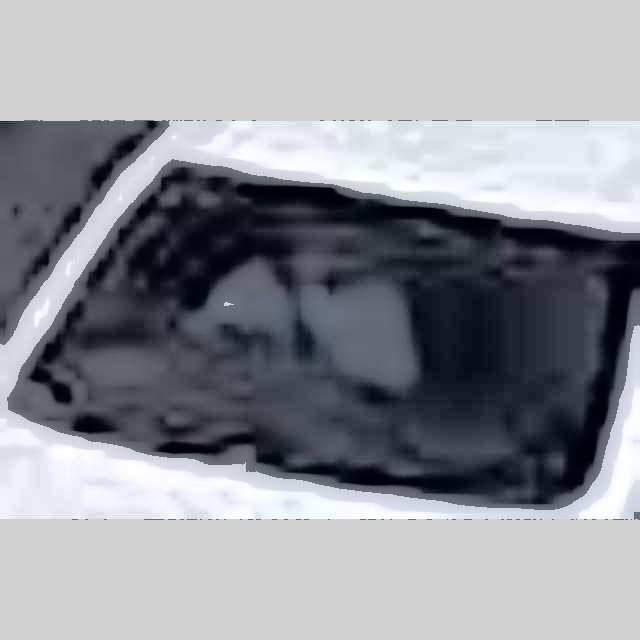pakai: (178, 205, 420, 383)
